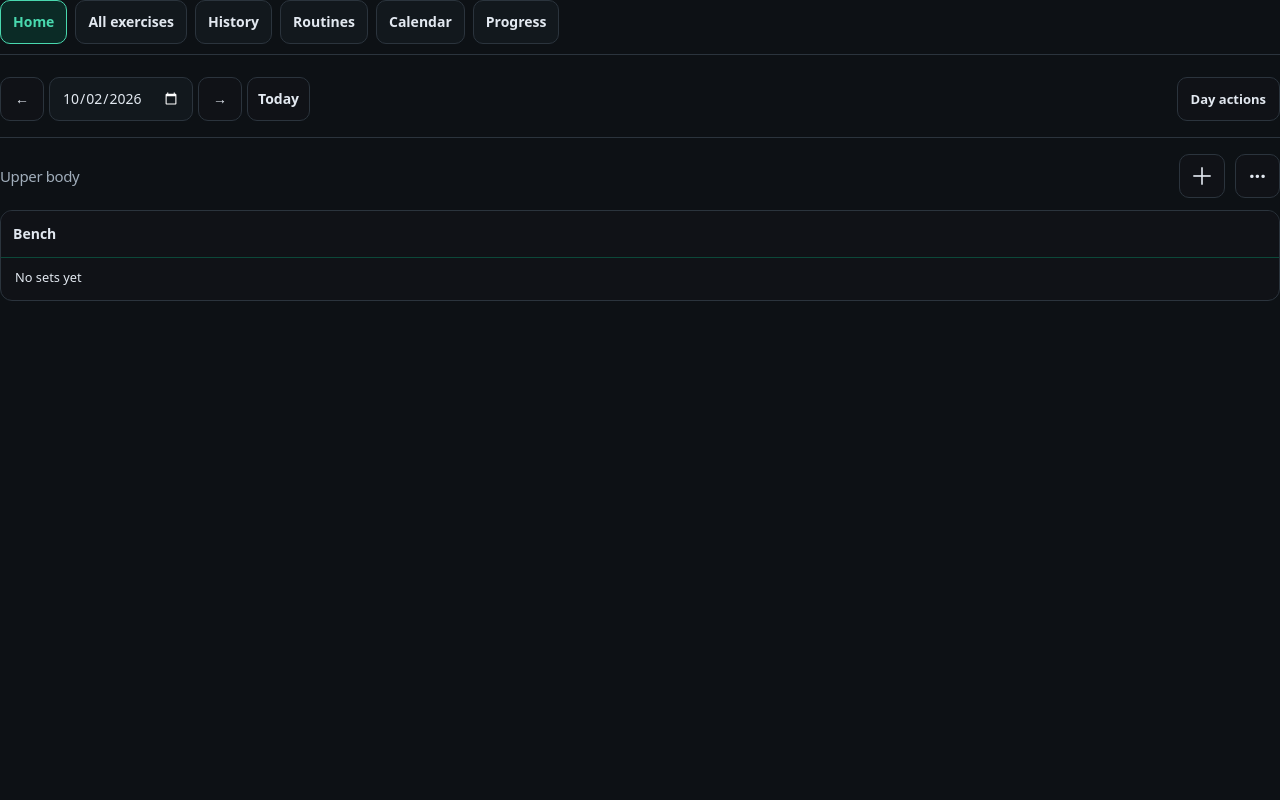
Test case: retains a confirmed new routine after its day save fails, and retries without duplication
Click the heading "More actions ···" at (1257, 176), box [1235, 154, 1279, 198]
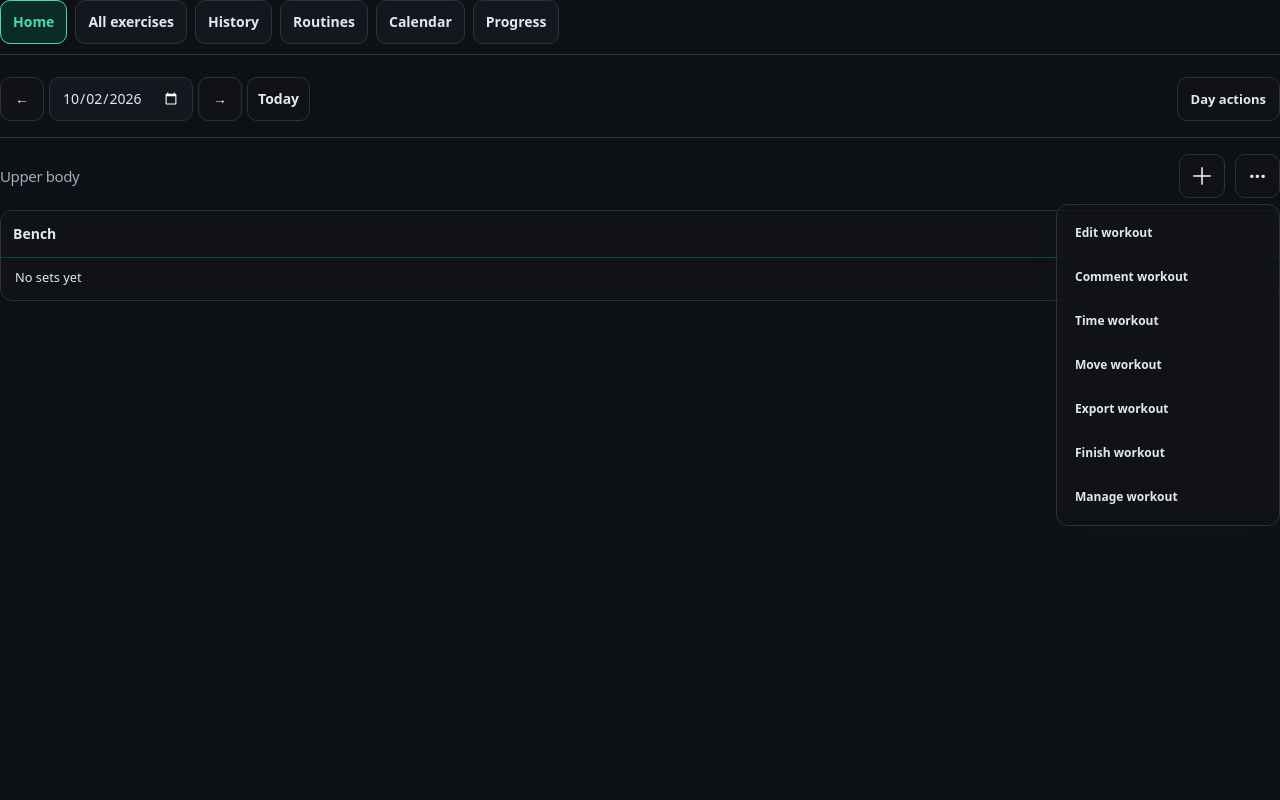
Click the button "Manage workout" at (1168, 497), box [1063, 475, 1273, 519]
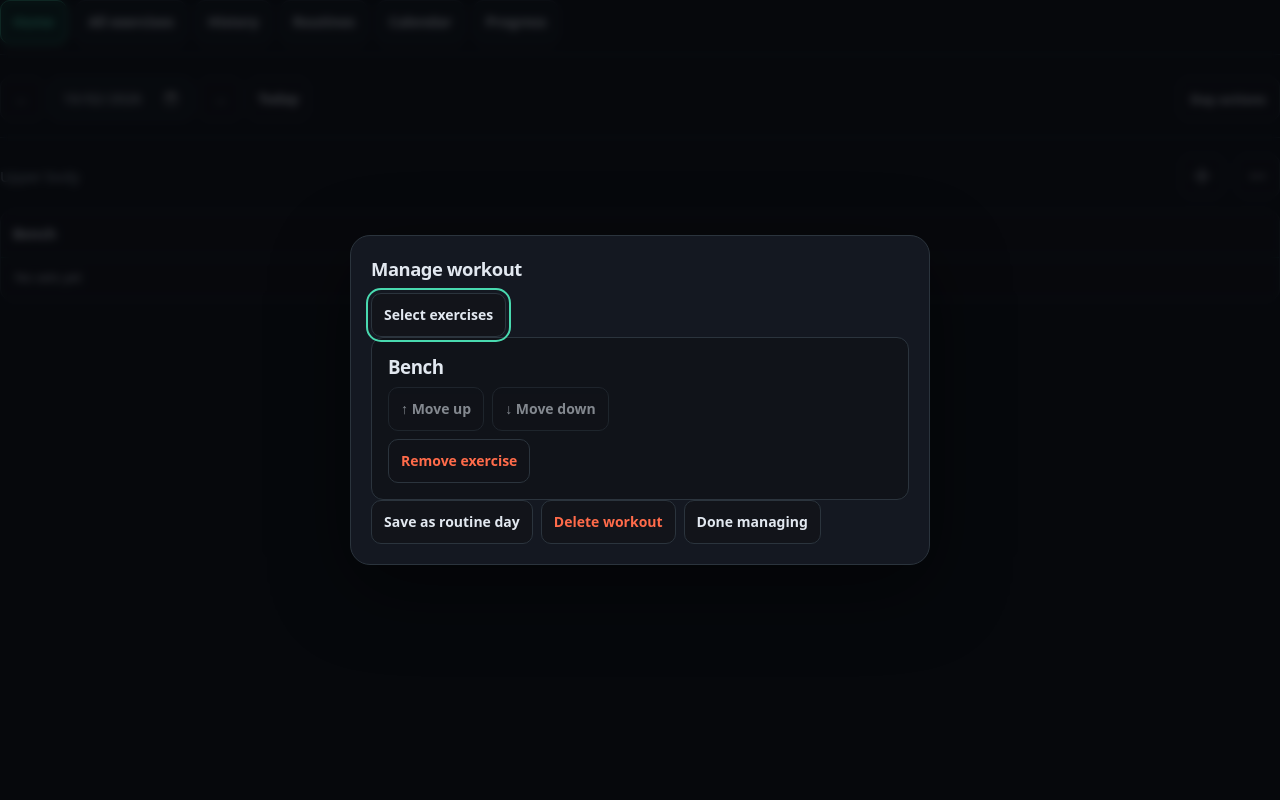
Click the button "Save as routine day" at (452, 522), box [371, 500, 533, 544]
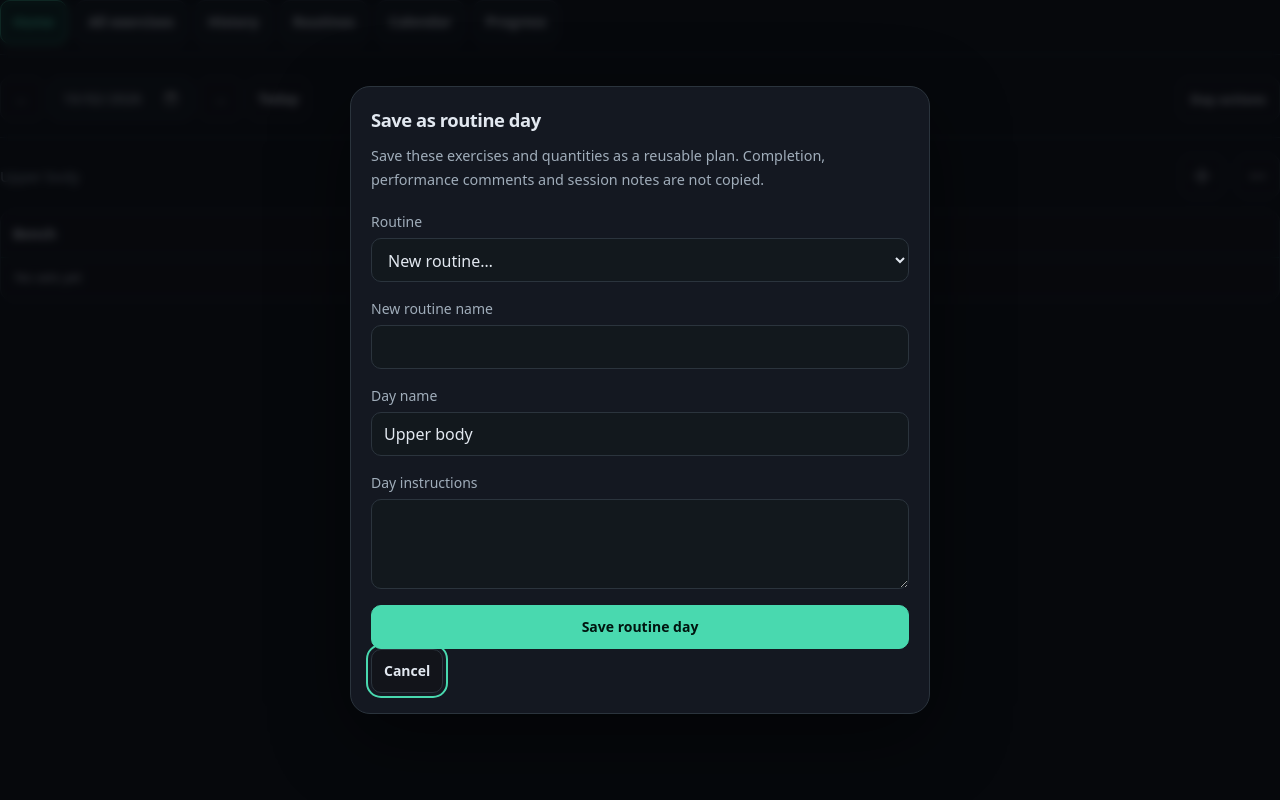
Type "Weekly plan" into the field labelled "New routine name" at (640, 346), box [371, 324, 909, 368]
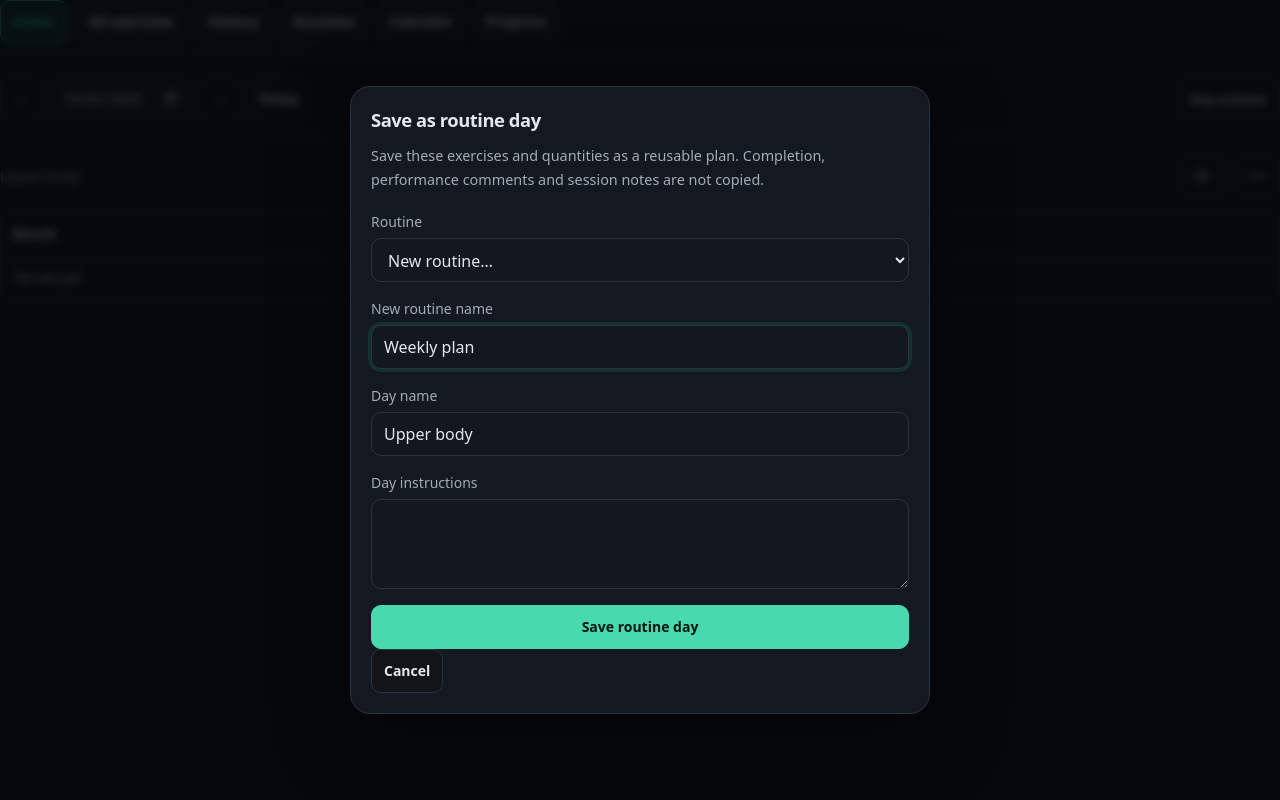
Click the button "Save routine day" at (640, 626), box [371, 604, 909, 648]
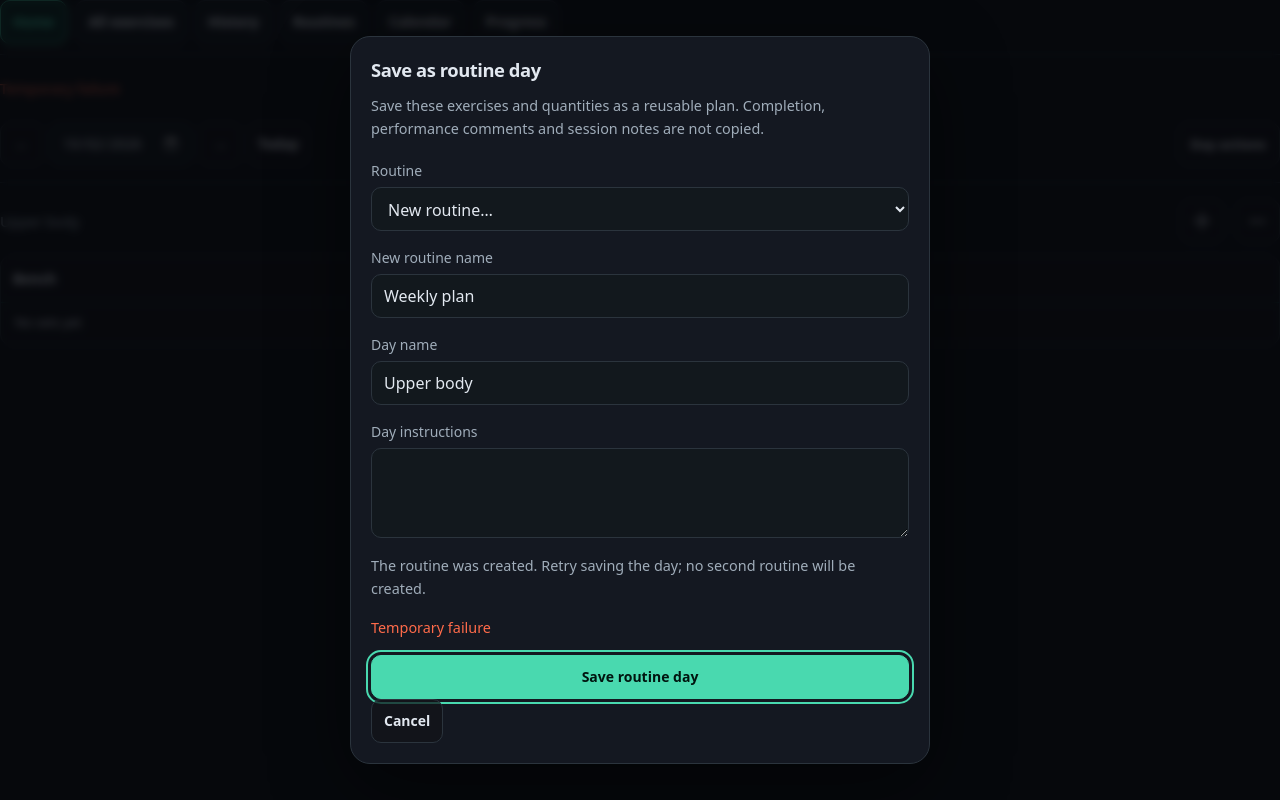
Now the message "Temporary failure" below "Day instructions" is shown, box [371, 618, 491, 637]
Click the button "Save routine day" at (640, 677), box [371, 655, 909, 699]
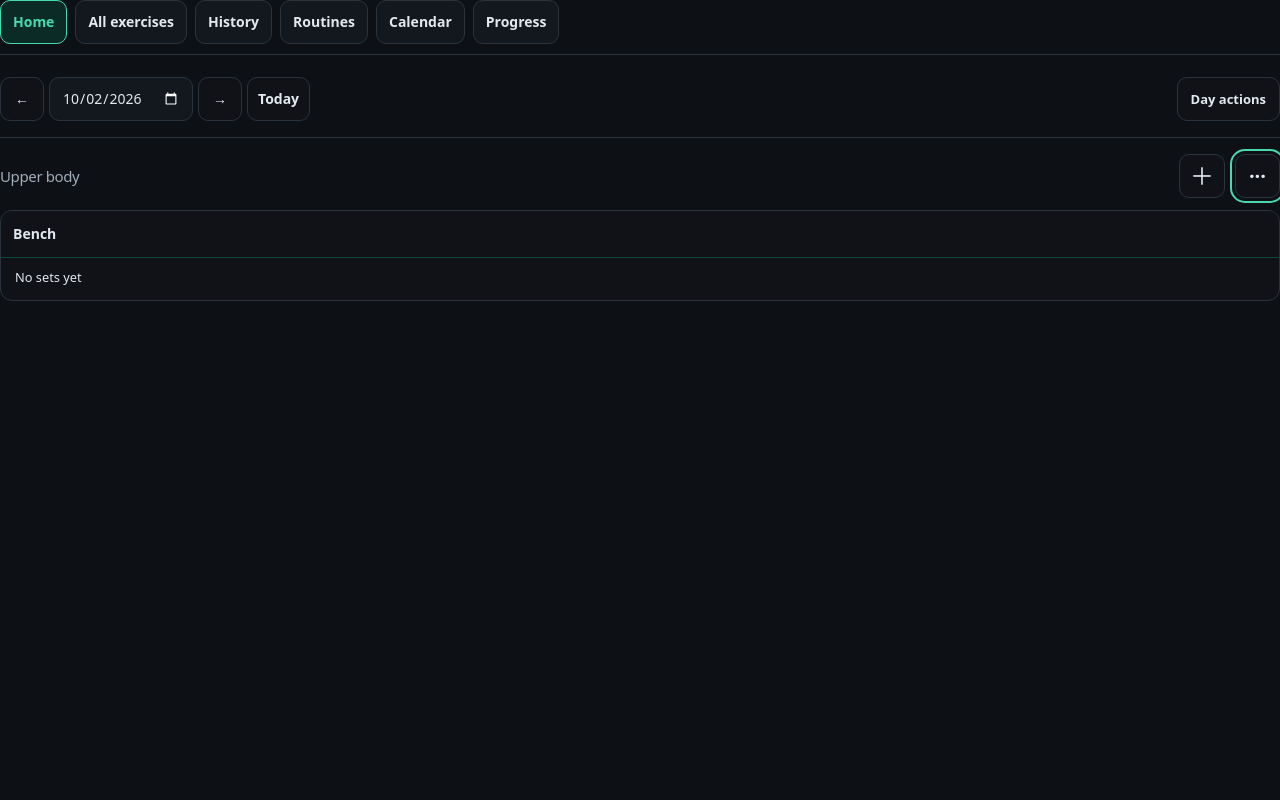
Now the dialog is gone
